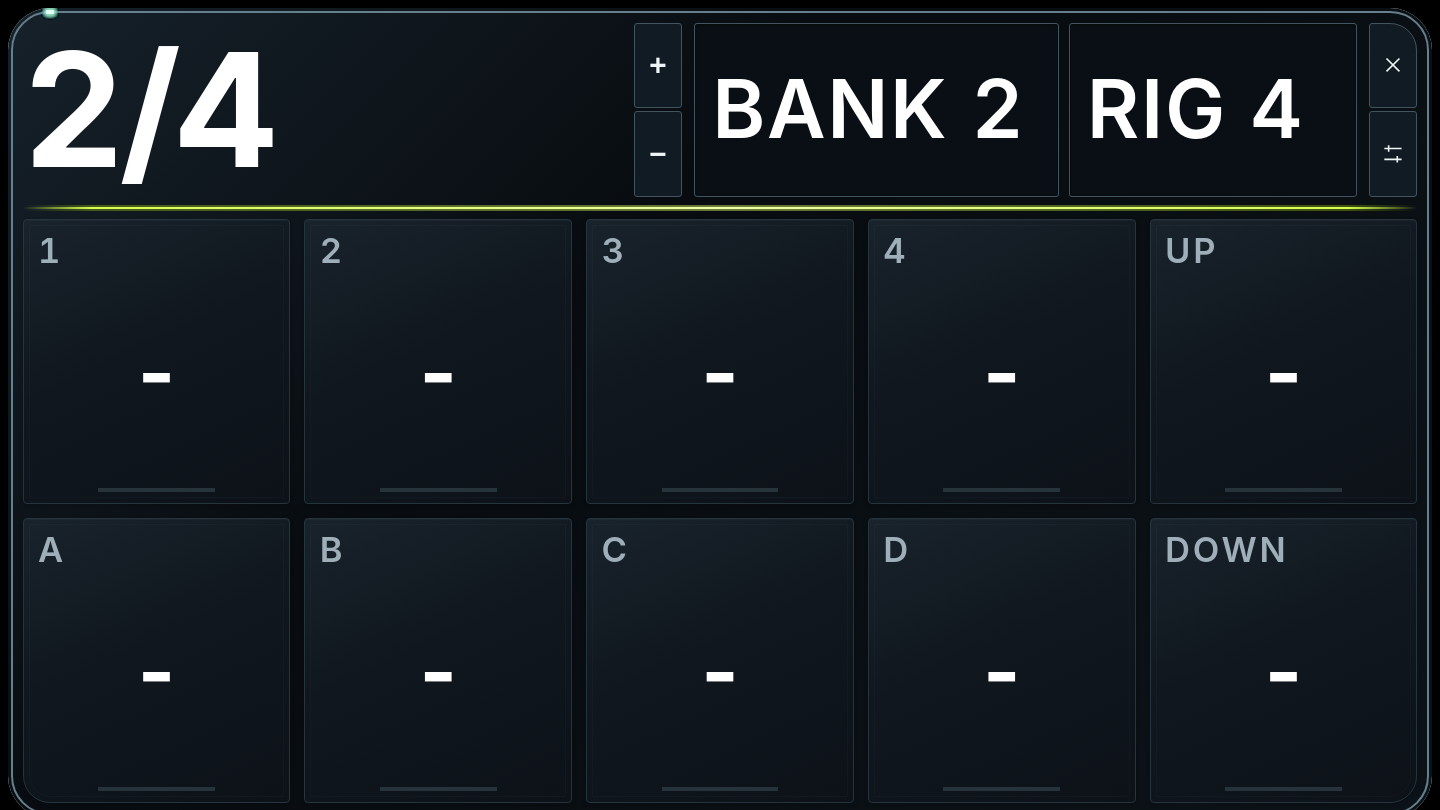
Test: StageView › switch input › disables stale bindings until the patch at the new coordinates arrives
Click the button with class "stage__switch" showing "- 1" at [156, 362], box [23,220,290,504]
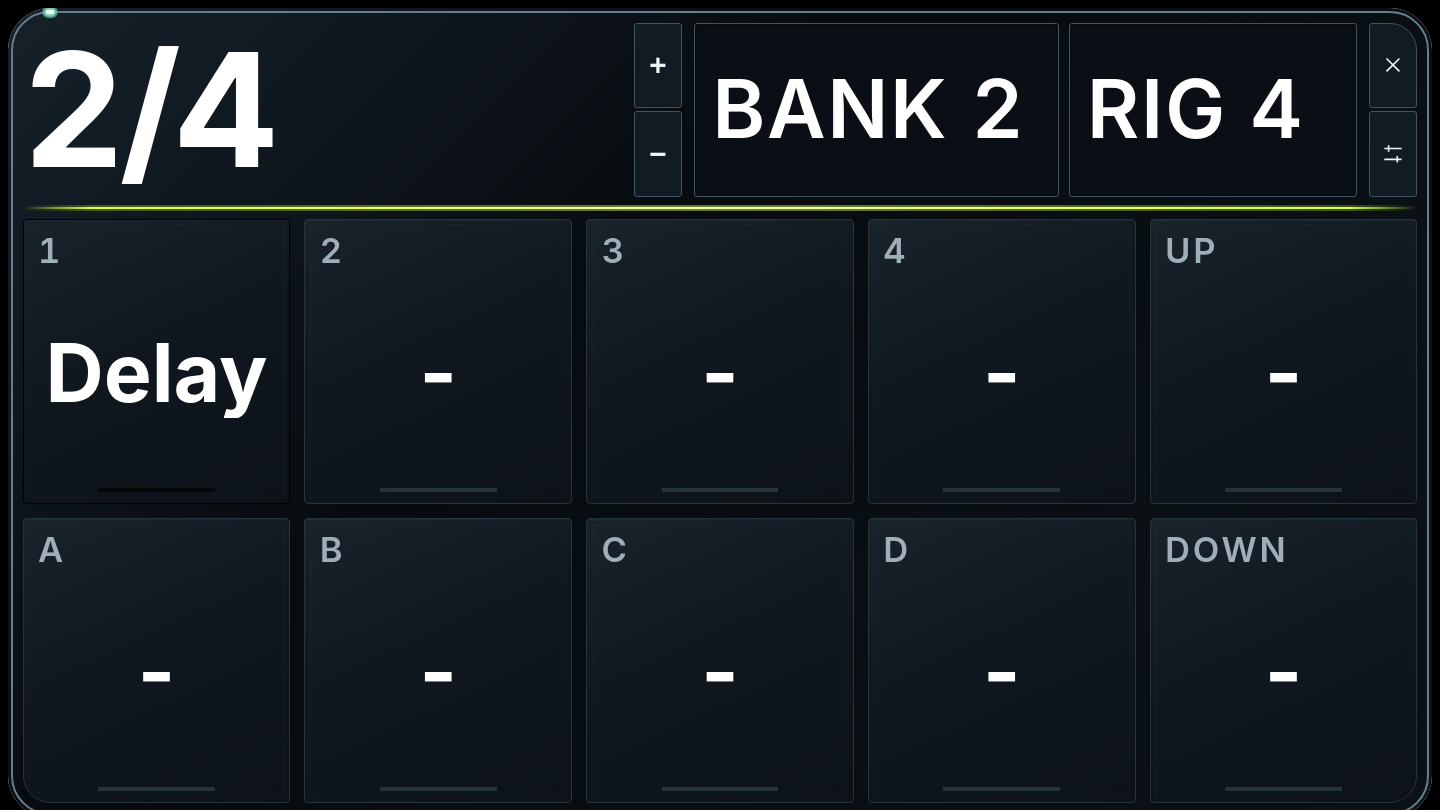
Result: the button with class "stage__switch" showing "Delay 1" is enabled at [23,220,290,504]
